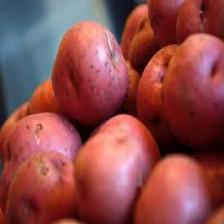Defected potato: (135, 28, 224, 151), (72, 111, 160, 223), (52, 18, 132, 126), (2, 112, 84, 217), (131, 149, 222, 224)
